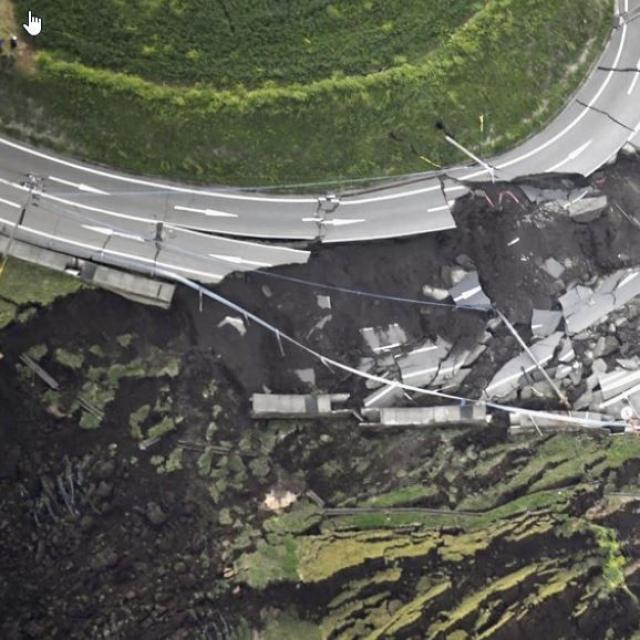collapsed_building: (0, 151, 639, 639)
